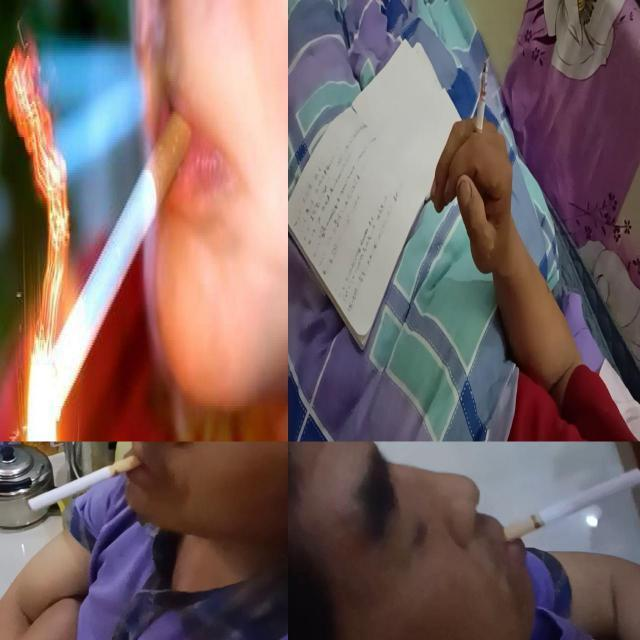smoke: (54, 96, 194, 394), (504, 468, 640, 544), (28, 453, 142, 512), (472, 58, 490, 150)
